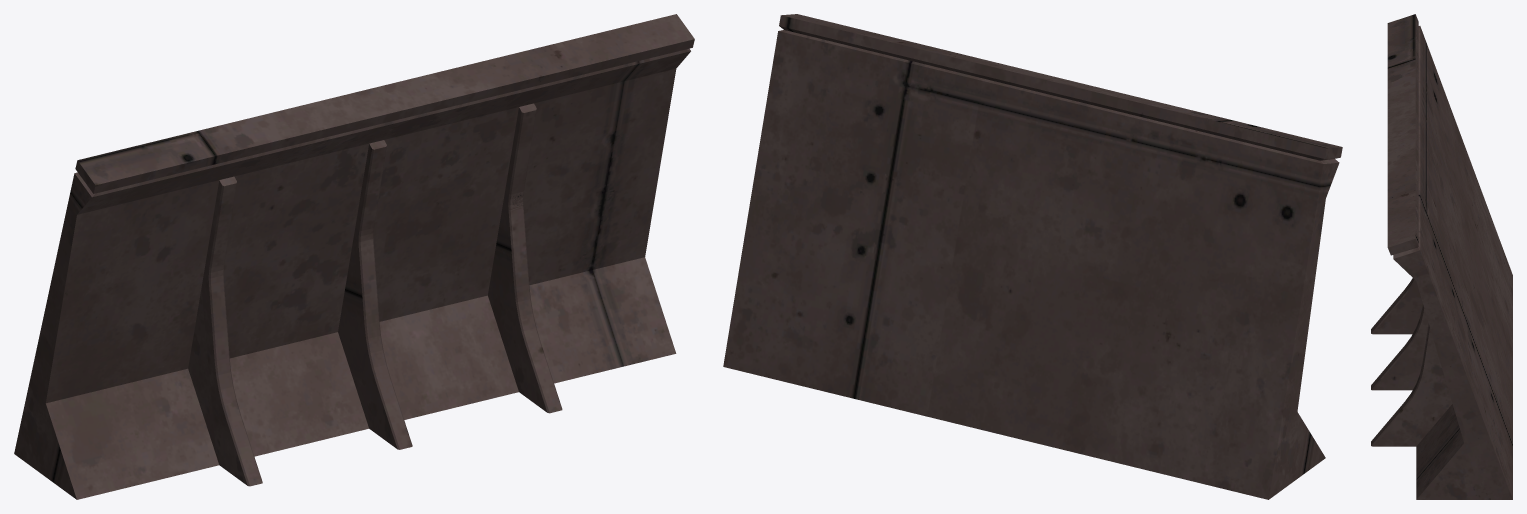
File: Bulkhead02.fbx
3 renders of one model, left to right at view 1: azimuth 30°, elevation 25°; view 2: azimuth 150°, elevation 25°; view 3: azimuth 270°, elevation 25°, orthographic. The views are drawn at different scales.
Parts seen in each view (by area): view 1: SM_ENV_STRUCT_ScrapYard_Bulkhead_02.mo; view 2: SM_ENV_STRUCT_ScrapYard_Bulkhead_02.mo; view 3: SM_ENV_STRUCT_ScrapYard_Bulkhead_02.mo.
Boxes of the visible parts, x1,y1,x2,y2 form: SM_ENV_STRUCT_ScrapYard_Bulkhead_02.mo: [14, 14, 694, 499]; SM_ENV_STRUCT_ScrapYard_Bulkhead_02.mo: [723, 14, 1342, 499]; SM_ENV_STRUCT_ScrapYard_Bulkhead_02.mo: [1371, 14, 1512, 499].
Size of the model in its own units: 1100 by 596 by 294.
1 material, 1 textured.
